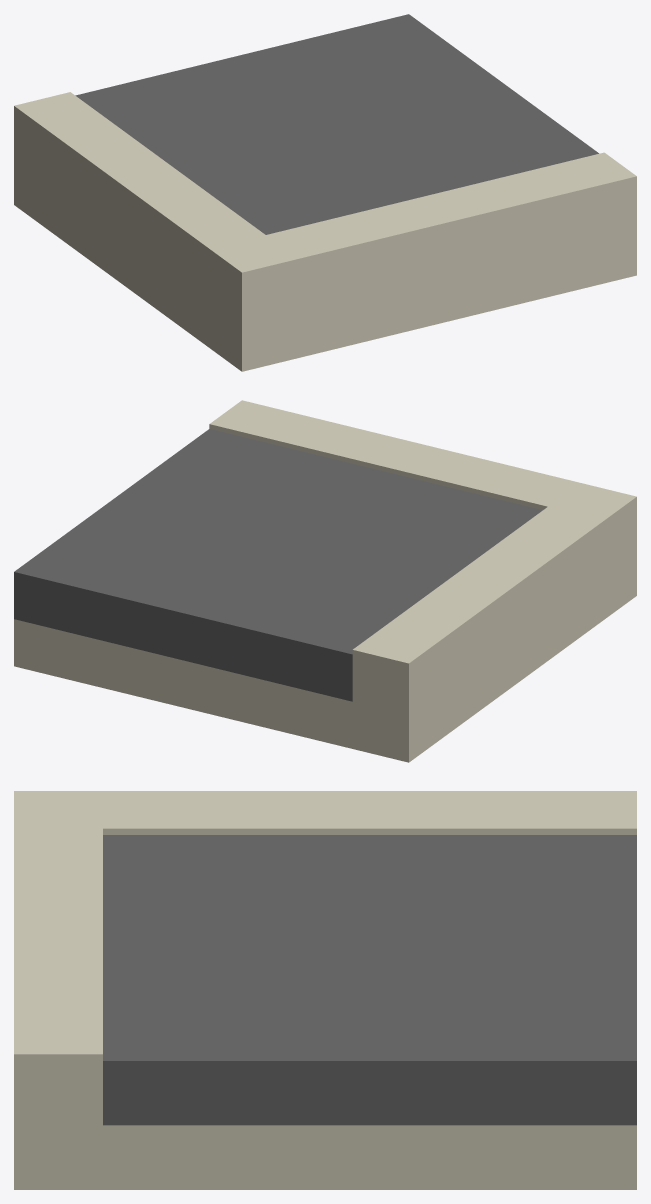
Rendered from roadTile_130.fbx.
3 views of the same model, one above another, from view 1: azimuth 30°, elevation 25°; view 2: azimuth 150°, elevation 25°; view 3: azimuth 270°, elevation 25° (orthographic). The views are drawn at different scales.
Visible parts, largest first — view 1: roadTile_130; view 2: roadTile_130; view 3: roadTile_130.
Boxes of the visible parts, x1,y1,x2,y2 form: roadTile_130: [14, 14, 636, 371]; roadTile_130: [14, 400, 636, 762]; roadTile_130: [14, 791, 636, 1189].
Bounding box in the file's own units: 103 × 24.8 × 103.
